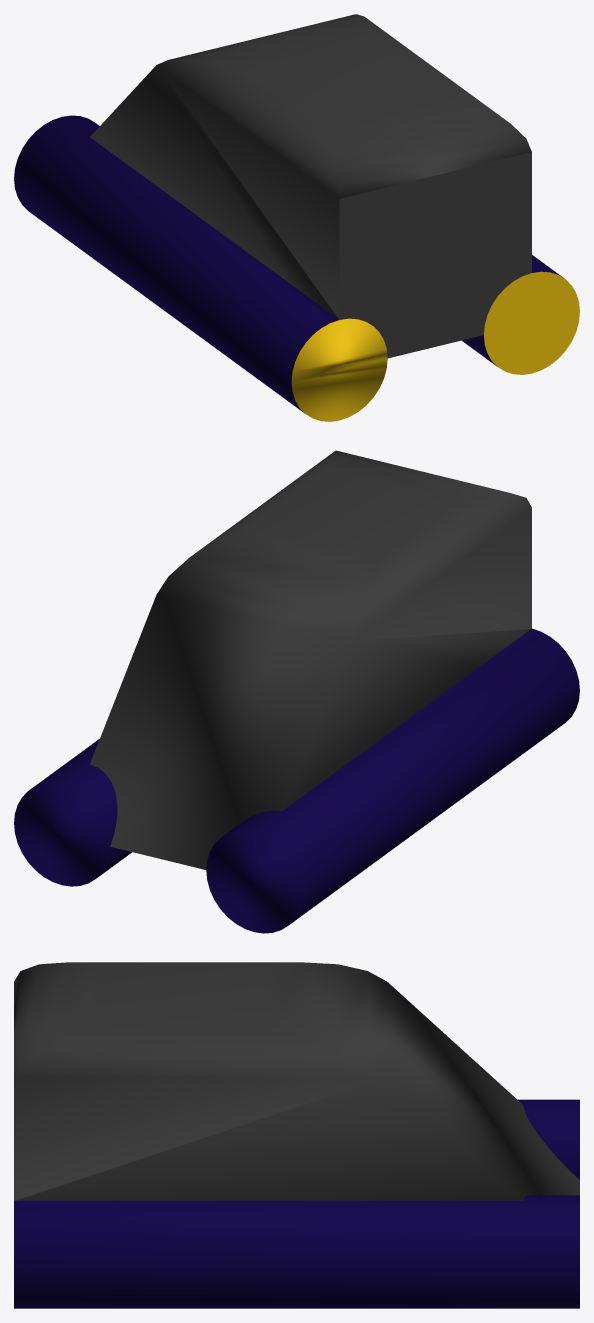
File: Ship.glb
The picture shows the model from 3 angles, top to bottom: view 1: azimuth 30°, elevation 25°; view 2: azimuth 150°, elevation 25°; view 3: azimuth 270°, elevation 25°; orthographic projection.
Parts seen in each view (by area): view 1: Cube; view 2: Cube; view 3: Cube.
Part boxes in pixels (bbox=[...]): Cube: bbox=[14, 14, 579, 421]; Cube: bbox=[14, 450, 579, 933]; Cube: bbox=[14, 962, 579, 1308].
Bounding box in the file's own units: 3 × 2.5 × 5.
